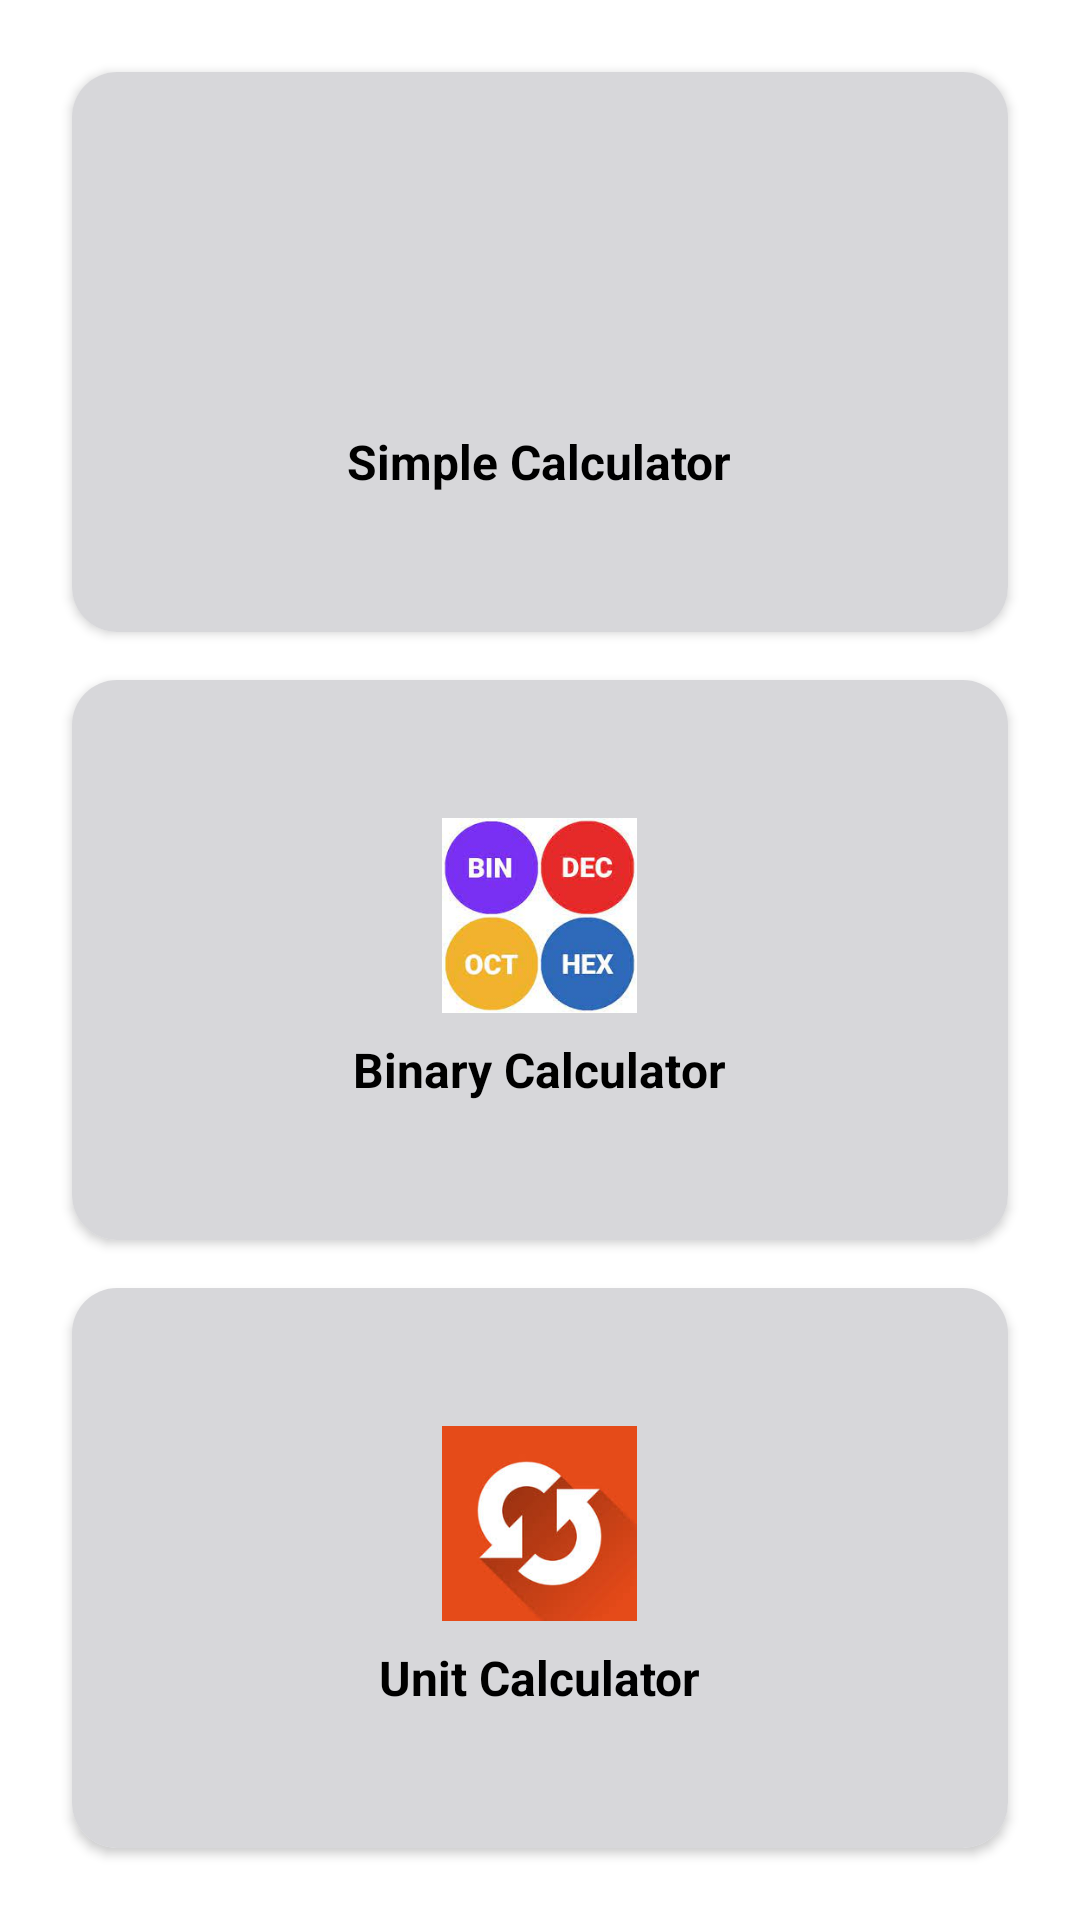

Icon bounding boxes for this 1080x1920 phone screenshot, format box=[x1, y1, x2, y2]:
Icon for binary converter: box=[442, 818, 637, 1013]
Icon for unit converter: box=[442, 1426, 637, 1621]
